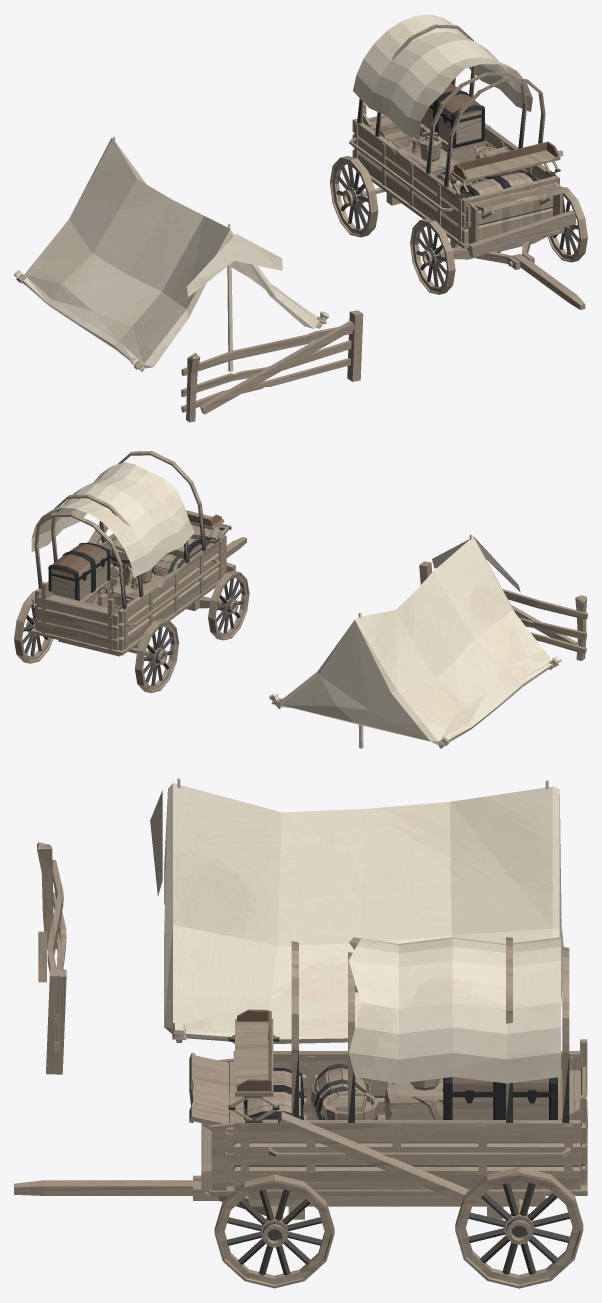
The model's file is stage-combined.glb.
3 views of the same model, one above another, from view 1: azimuth 30°, elevation 25°; view 2: azimuth 150°, elevation 25°; view 3: azimuth 270°, elevation 25° (orthographic). The views are drawn at different scales.
Parts seen in each view (by area): view 1: frontier_part_0004_4, Sample repairs, frontier_part_0161_161, frontier_part_0165_165, town_part_0021_21, frontier_part_0162_162, frontier_part_0166_166, frontier_part_0163_163, frontier_part_0160_160, frontier_part_0159_159; view 2: frontier_part_0004_4, Sample repairs, frontier_part_0161_161, frontier_part_0165_165, frontier_part_0159_159, frontier_part_0162_162, town_part_0021_21, frontier_part_0166_166, frontier_part_0164_164; view 3: frontier_part_0004_4, frontier_part_0161_161, Sample repairs, frontier_part_0165_165, frontier_part_0164_164, frontier_part_0160_160, frontier_part_0163_163, town_part_0021_21, frontier_part_0159_159.
Part boxes in pixels (x1,y1,x2,y2): frontier_part_0004_4: (14, 136, 329, 371); Sample repairs: (187, 14, 576, 414); frontier_part_0161_161: (349, 24, 568, 250); frontier_part_0165_165: (380, 83, 537, 197); town_part_0021_21: (181, 327, 352, 422); frontier_part_0162_162: (330, 156, 378, 237); frontier_part_0166_166: (410, 218, 455, 294); frontier_part_0163_163: (442, 237, 585, 309); frontier_part_0160_160: (547, 186, 587, 262); frontier_part_0159_159: (361, 103, 412, 141); frontier_part_0004_4: (269, 534, 561, 748); Sample repairs: (31, 462, 577, 644); frontier_part_0161_161: (30, 451, 231, 656); frontier_part_0165_165: (48, 538, 202, 625); frontier_part_0159_159: (36, 582, 119, 650); frontier_part_0162_162: (135, 619, 179, 692); town_part_0021_21: (429, 575, 587, 660); frontier_part_0166_166: (208, 571, 249, 640); frontier_part_0164_164: (14, 591, 52, 663); frontier_part_0004_4: (164, 777, 563, 1043); frontier_part_0161_161: (189, 937, 587, 1219); Sample repairs: (38, 790, 560, 1202); frontier_part_0165_165: (244, 1063, 557, 1119); frontier_part_0164_164: (455, 1167, 583, 1288); frontier_part_0160_160: (214, 1174, 334, 1288); frontier_part_0163_163: (14, 1175, 282, 1217); town_part_0021_21: (37, 842, 66, 1051); frontier_part_0159_159: (558, 1039, 587, 1184).
Bounding box in the file's own units: 8.68 × 3.38 × 5.88.
2 materials, 2 textured.
